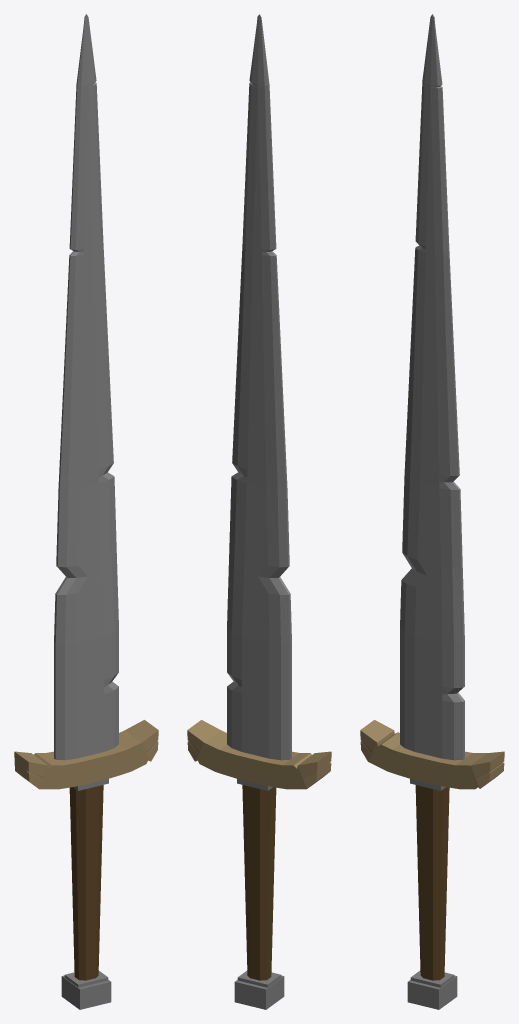
Rendered from Sword.fbx.
3 views of the same model, side by side, from view 1: azimuth 30°, elevation 25°; view 2: azimuth 150°, elevation 25°; view 3: azimuth 330°, elevation 25° (orthographic).
Parts seen in each view (by area): view 1: Cube; view 2: Cube; view 3: Cube.
Part boxes in pixels (x1,y1,x2,y2): Cube: [14, 14, 158, 1009]; Cube: [187, 14, 331, 1009]; Cube: [360, 14, 504, 1009].
Size of the model in its own units: 306 by 2215 by 74.16.
